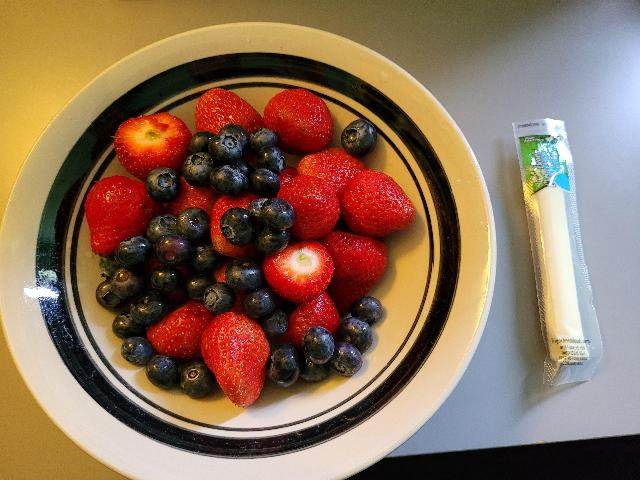Strawberries: (202, 312, 268, 406), (81, 176, 150, 252), (342, 170, 416, 236), (115, 112, 189, 176), (262, 87, 334, 151), (327, 232, 388, 304), (264, 244, 332, 300), (281, 176, 339, 236), (149, 306, 207, 358), (196, 88, 260, 134), (296, 151, 366, 193), (290, 296, 344, 338)
